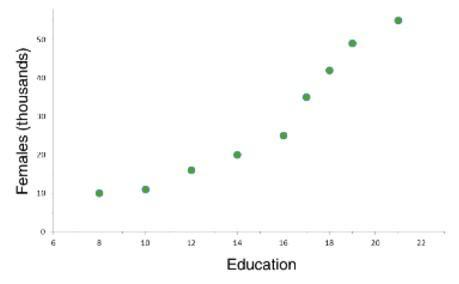axis: (50, 228, 448, 236), (50, 6, 56, 237)
point: (183, 162, 201, 180), (389, 13, 407, 28), (229, 147, 246, 162), (275, 129, 294, 142), (323, 64, 340, 78), (91, 185, 107, 199), (300, 89, 314, 104), (345, 36, 360, 50), (138, 184, 154, 197)
